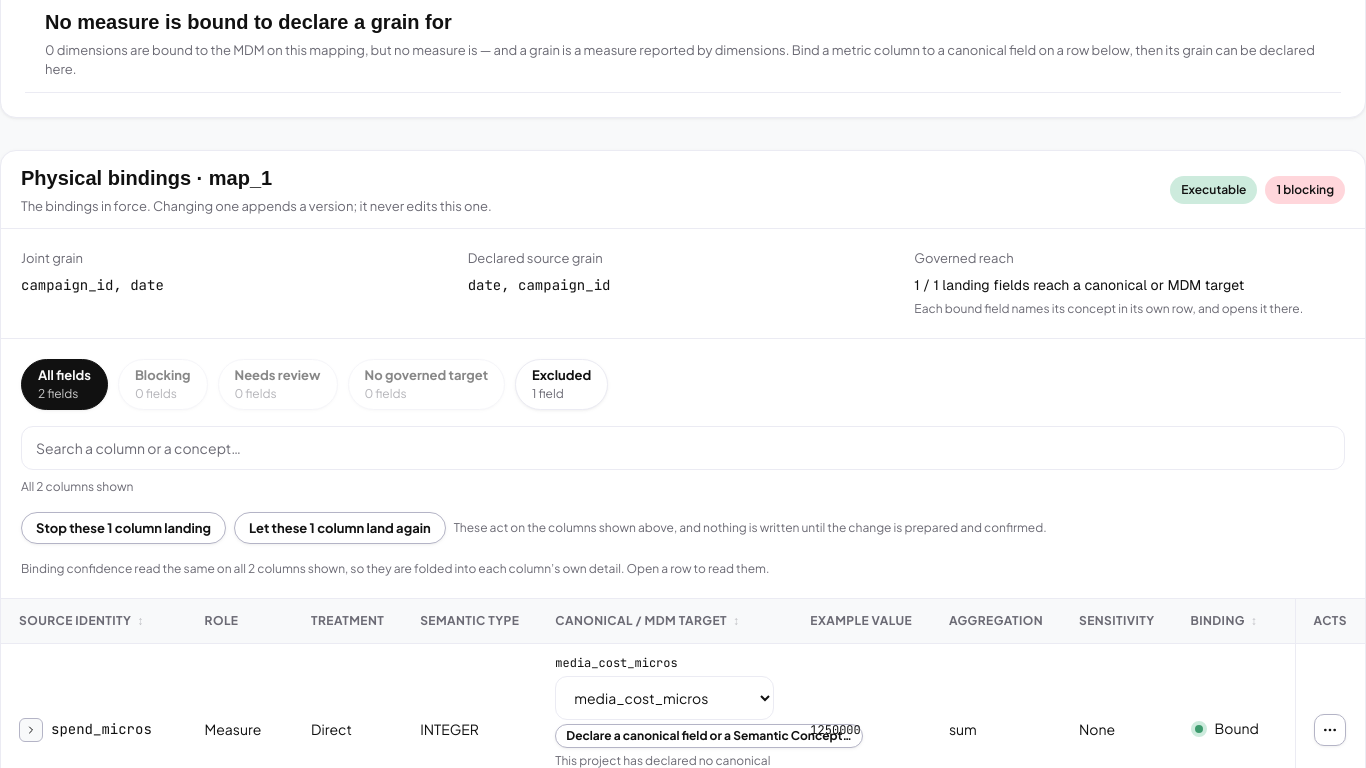
Datastream Workbench tabs › counts what reaches governance, and lets one reading be read alone
(page scrolled)
Check: the text "1 / 1 landing fields reach a canonical or MDM target" is shown, box [914,277,1244,293]
Check: the radio button labelled "No governed target 0 fields" is disabled, box [348,359,505,410]
Step 1. Click the radio button labelled "Excluded 1 field" → (562, 385), box [515,359,608,410]
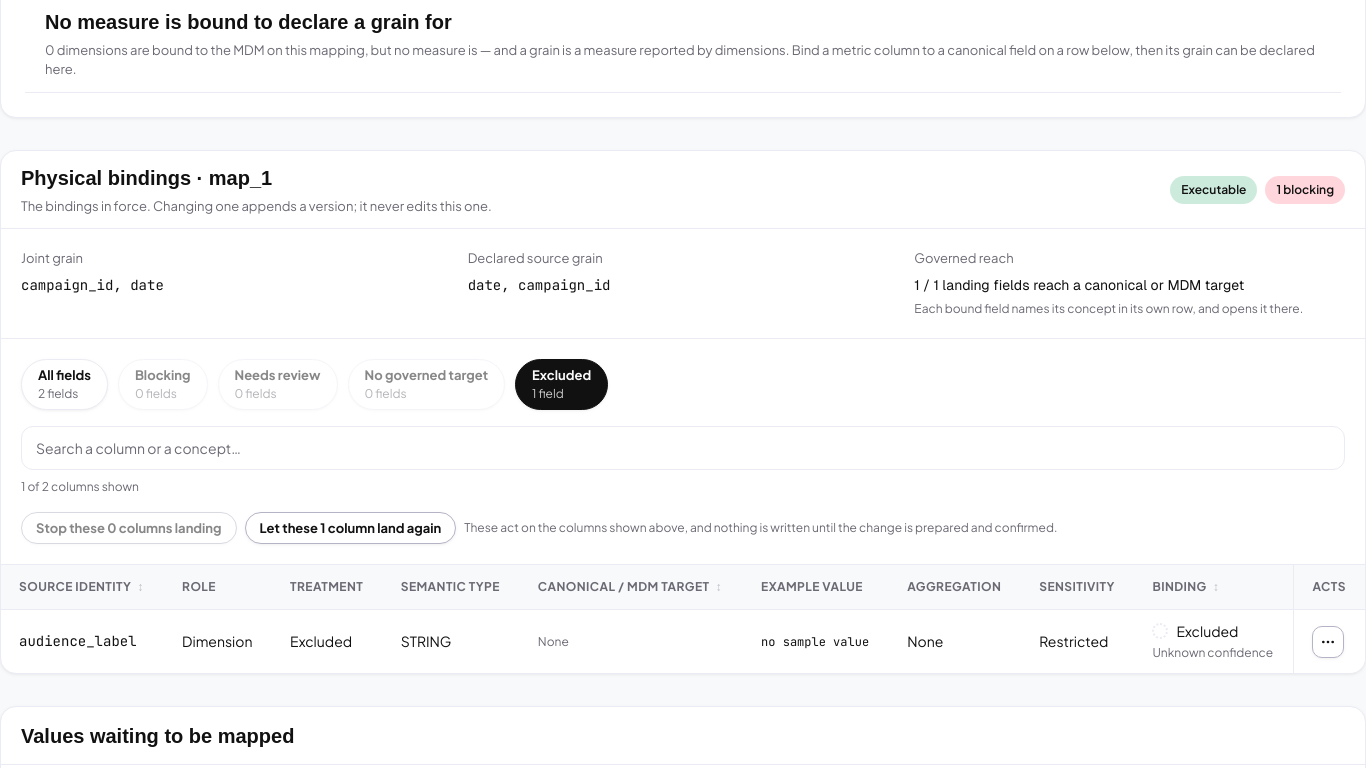
Check: the text "audience_label" is shown, box [19,631,146,652]
Check: the text "spend_micros" is gone
